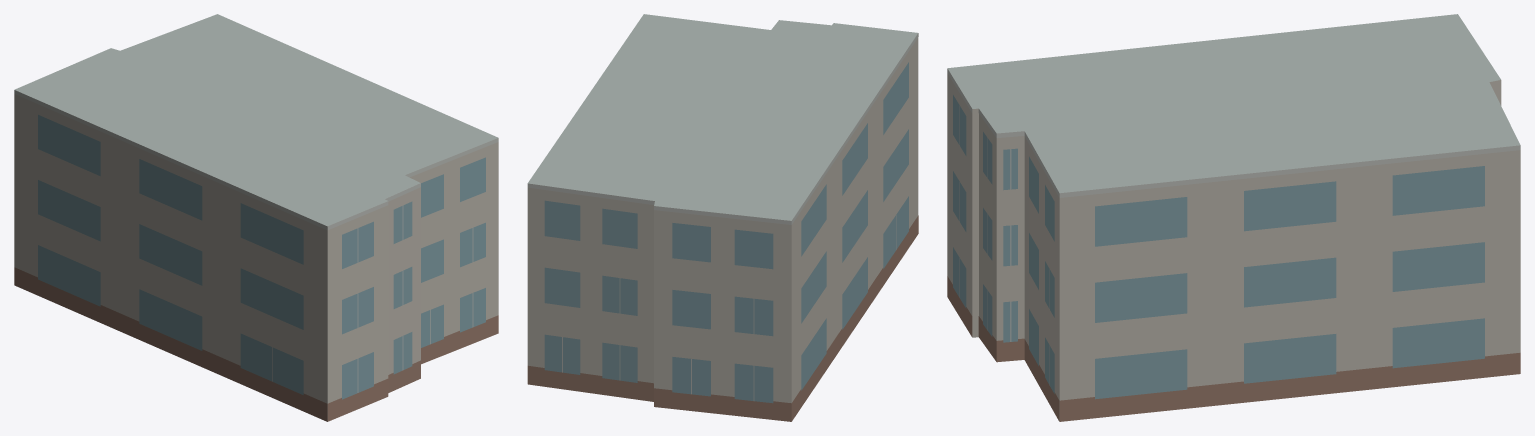
Rendered from survey-upis-32480342.glb.
3 views of the same model, side by side, from view 1: azimuth 30°, elevation 25°; view 2: azimuth 150°, elevation 25°; view 3: azimuth 270°, elevation 25° (orthographic). The views are drawn at different scales.
Visible parts, largest first — view 1: survey-upis-32480342.tmp; view 2: survey-upis-32480342.tmp; view 3: survey-upis-32480342.tmp.
Part boxes in pixels (<box>): survey-upis-32480342.tmp: <box>14,14,498,421</box>; survey-upis-32480342.tmp: <box>527,14,918,421</box>; survey-upis-32480342.tmp: <box>947,14,1520,421</box>.
Size of the model in its own units: 19.85 by 11.8 by 26.82.
